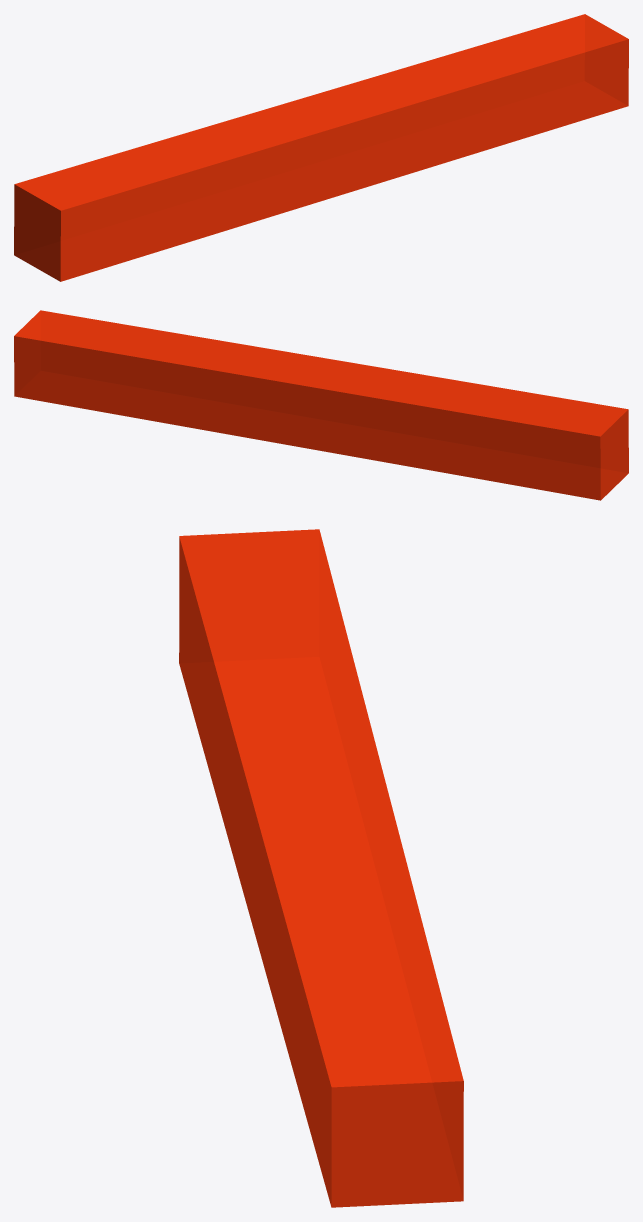
Rendered from Event_421115418_EErechit_26.fbx.
3 renders of one model, top to bottom at view 1: azimuth 30°, elevation 25°; view 2: azimuth 150°, elevation 25°; view 3: azimuth 270°, elevation 25°, orthographic. The views are drawn at different scales.
Visible parts, largest first — view 1: Model; view 2: Model; view 3: Model.
Boxes of the visible parts, x1,y1,x2,y2 form: Model: (14,14,628,281); Model: (14,310,628,500); Model: (179,529,463,1207).
Size of the model in its own units: 0.7015 by 0.0814 by 0.1552.
